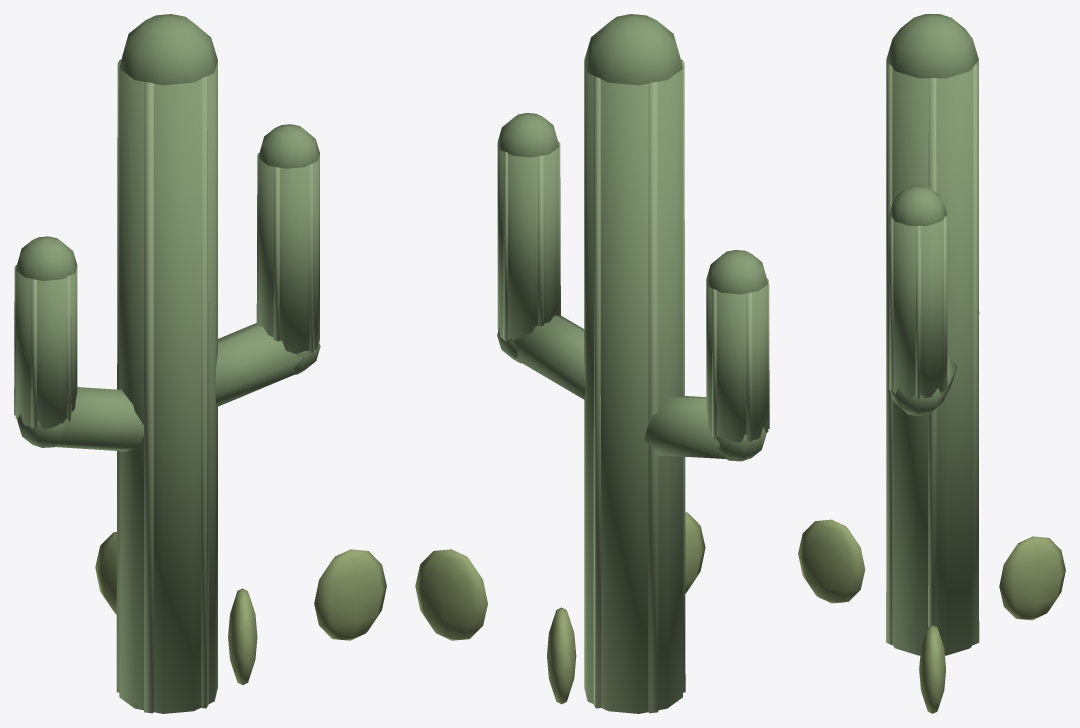
The model's file is v_cactus.glb.
3 renders of one model, left to right at view 1: azimuth 30°, elevation 25°; view 2: azimuth 150°, elevation 25°; view 3: azimuth 270°, elevation 25°, orthographic. The views are drawn at different scales.
Parts seen in each view (by area): view 1: Cactus; view 2: Cactus; view 3: Cactus.
Part boxes in pixels (x1,y1,x2,y2): Cactus: (14, 14, 386, 713); Cactus: (415, 14, 769, 713); Cactus: (798, 14, 1065, 713).
Size of what is drawn, in the model's own units: 1.98 by 3.54 by 1.39.
